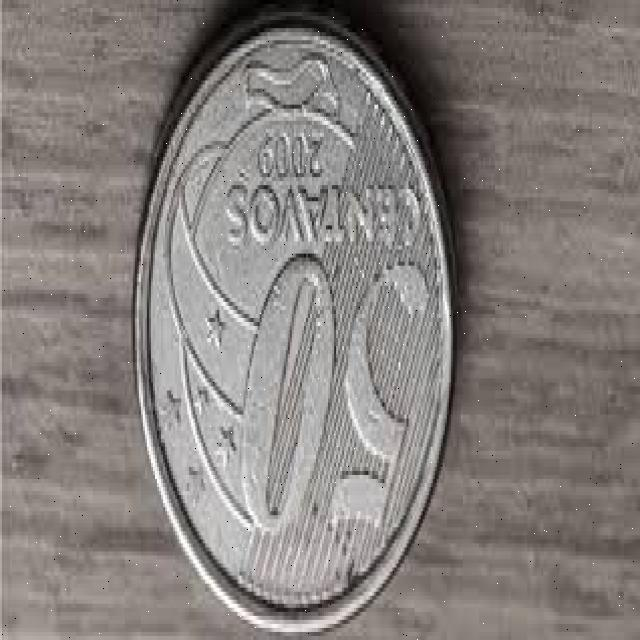50 cent: (128, 14, 456, 640)
